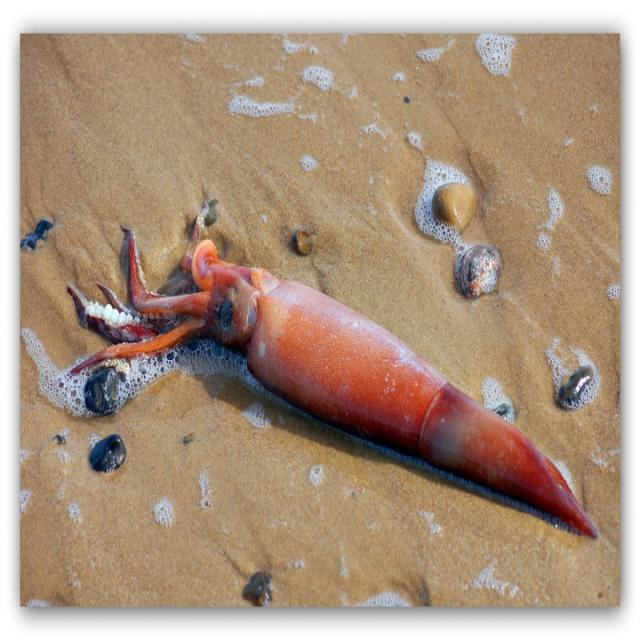SQUID: (51, 206, 608, 555)
